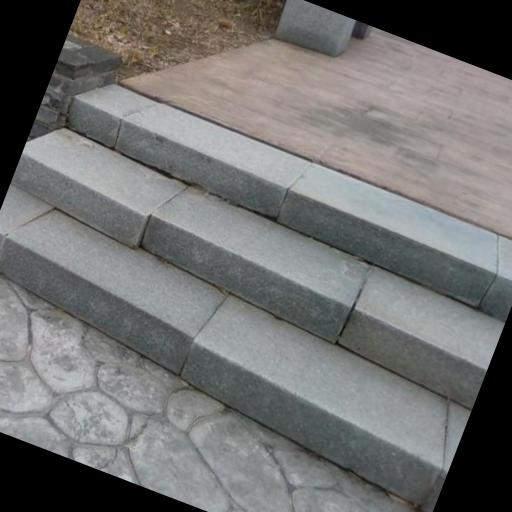stairs: (0, 86, 511, 511)
